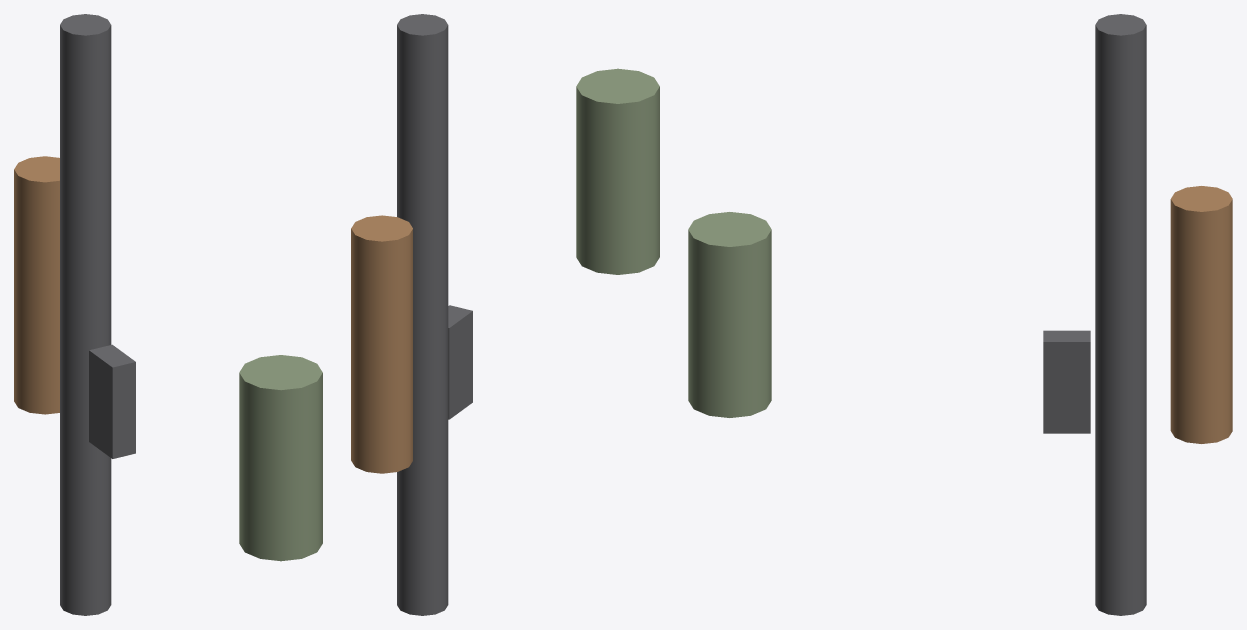
The model's file is rpg7.glb.
3 views of the same model, side by side, from view 1: azimuth 30°, elevation 25°; view 2: azimuth 150°, elevation 25°; view 3: azimuth 270°, elevation 25° (orthographic).
Parts seen in each view (by area): view 1: Tube, GrenadeHead, HeatGuard, Grip; view 2: Tube, GrenadeHead, HeatGuard, Grip; view 3: Tube, GrenadeHead, HeatGuard, Grip.
Boxes of the visible parts, x1=… form: Tube: x1=60, y1=14, x2=111, y2=615; GrenadeHead: x1=239, y1=355, x2=322, y2=561; HeatGuard: x1=14, y1=156, x2=59, y2=414; Grip: x1=89, y1=344, x2=135, y2=458; Tube: x1=397, y1=14, x2=448, y2=615; GrenadeHead: x1=576, y1=68, x2=659, y2=274; HeatGuard: x1=351, y1=215, x2=412, y2=473; Grip: x1=448, y1=305, x2=472, y2=419; Tube: x1=1095, y1=14, x2=1146, y2=615; GrenadeHead: x1=688, y1=212, x2=771, y2=417; HeatGuard: x1=1170, y1=186, x2=1232, y2=443; Grip: x1=1043, y1=330, x2=1090, y2=433.
Size of the model in its own units: 0.124 by 0.95 by 0.808.
